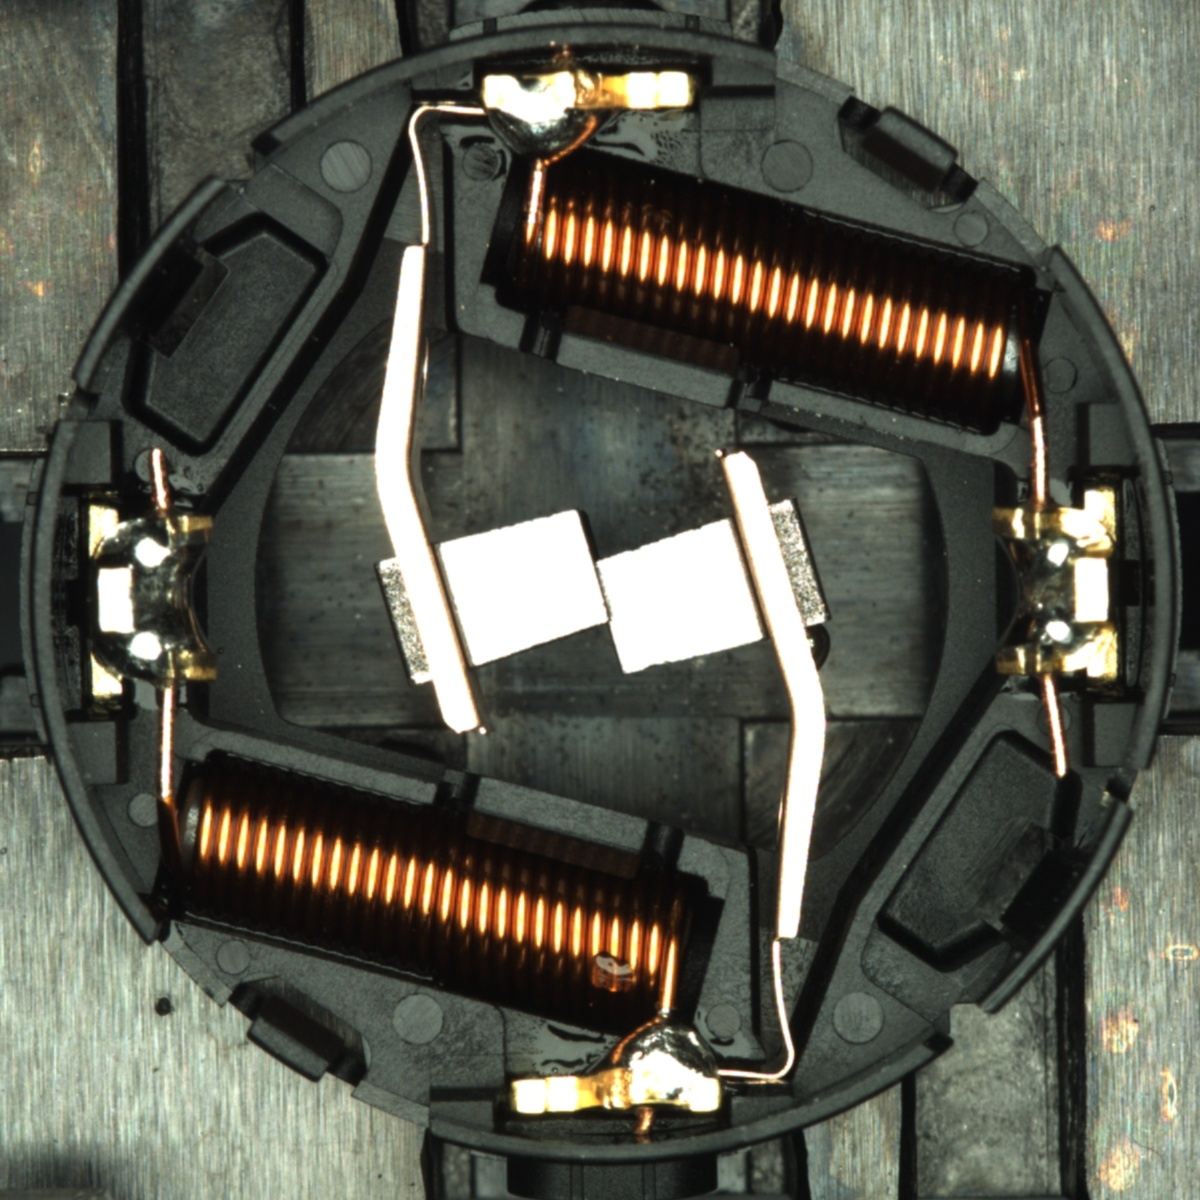1: (255, 31, 484, 255), (713, 929, 942, 1153)
2: (713, 31, 942, 255), (255, 929, 484, 1153)
3: (25, 255, 255, 480), (942, 704, 1172, 929)
4: (255, 255, 484, 480), (713, 704, 942, 929)
5: (484, 143, 713, 368), (484, 816, 713, 1041)
6: (713, 255, 942, 480), (255, 704, 484, 929)
7: (942, 255, 1172, 480), (25, 704, 255, 929)
cacbon: (398, 499, 799, 685)
chau_dien: (81, 498, 221, 699), (985, 488, 1124, 686)
hat_chi: (804, 623, 833, 672)
tay_choi: (481, 68, 697, 168), (509, 1018, 723, 1116)
thanh_de: (955, 787, 1141, 1030), (59, 164, 244, 405)
